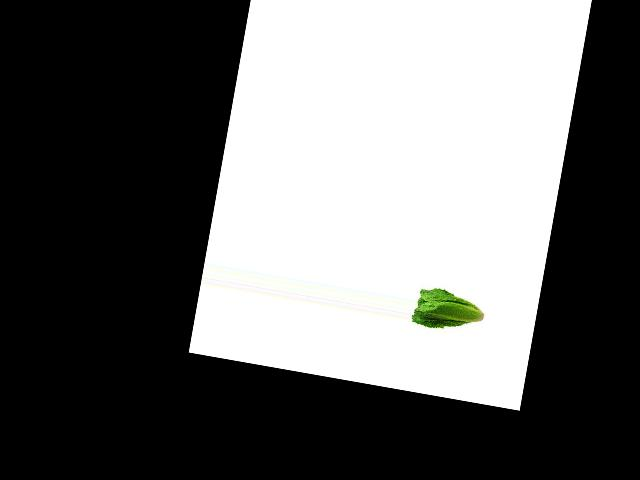lettuce: (409, 282, 488, 340)
